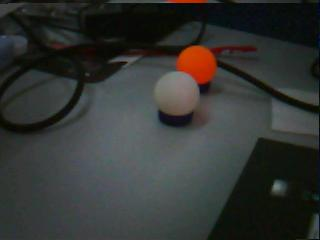oball: (177, 46, 216, 72)
